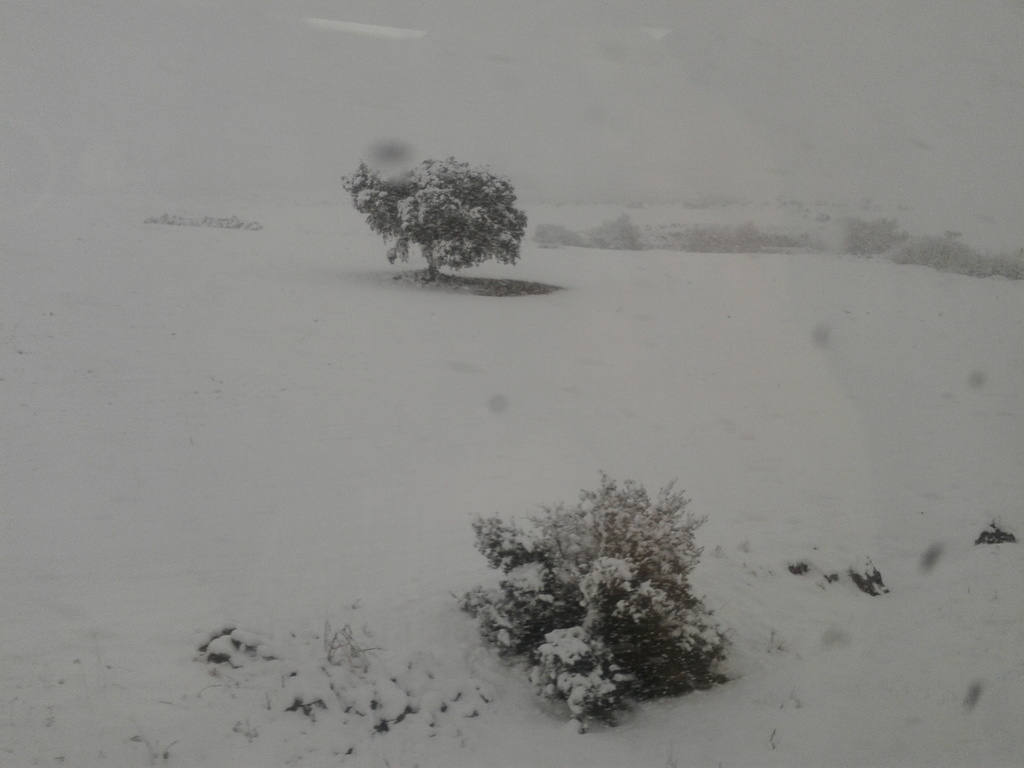Tree: (346, 138, 537, 289)
